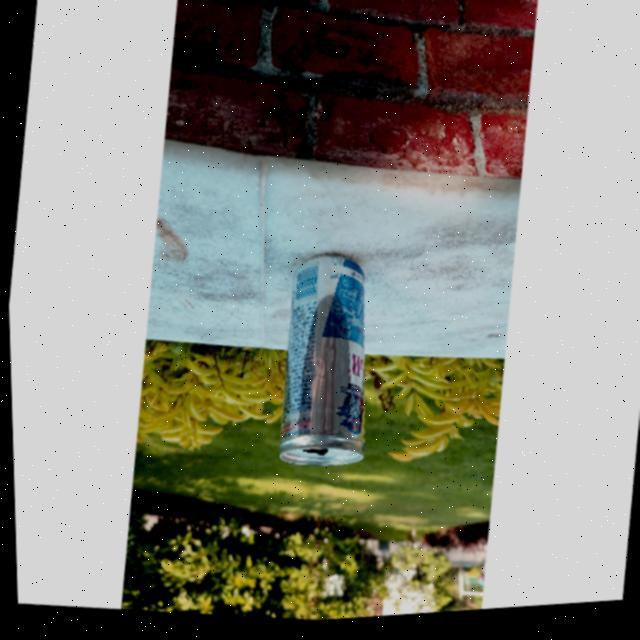Redbull DanceYourStyle: (260, 248, 381, 481)
